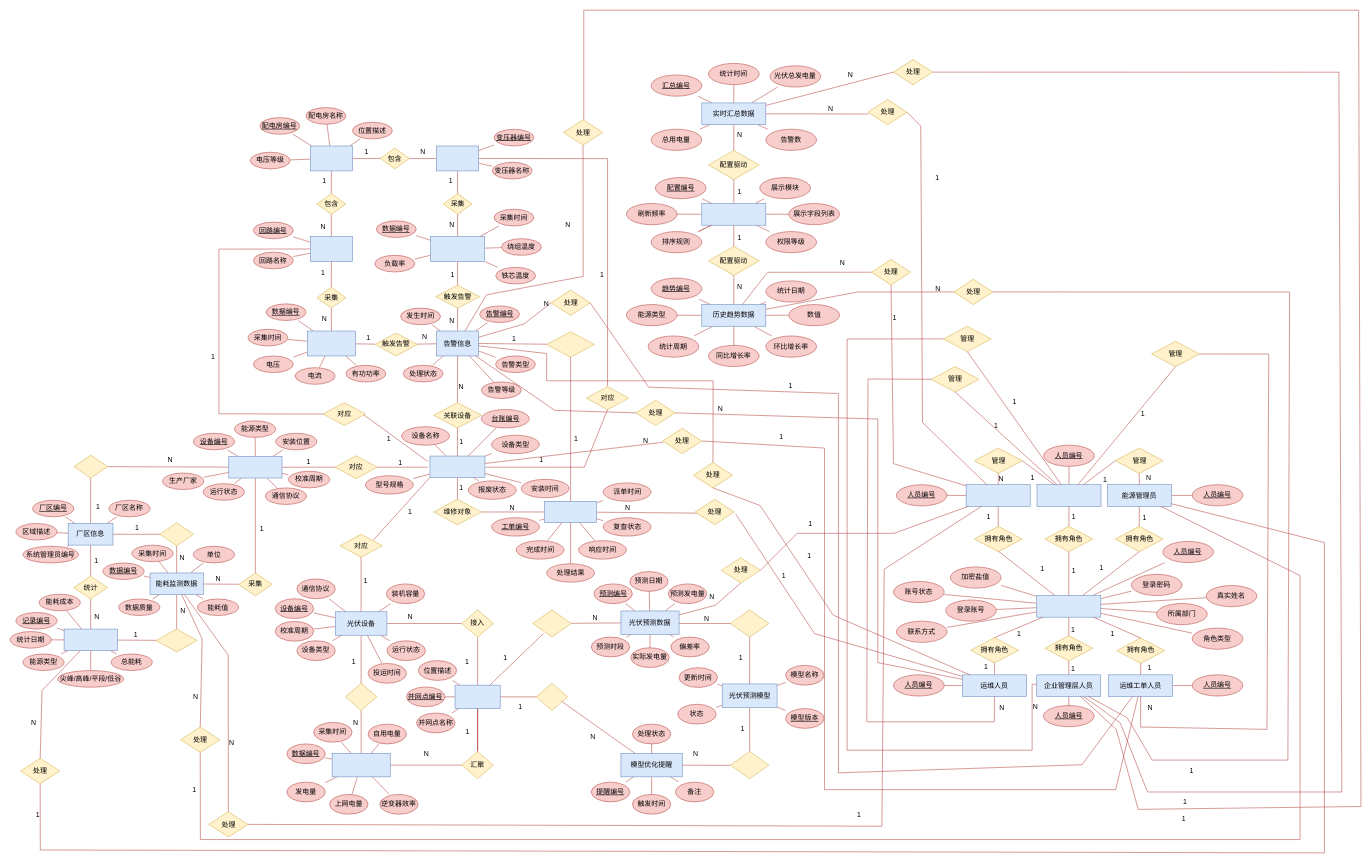
This 1372x864 diagram has some shape labels left out. The centre of each missing label's shape, as x and y in pixels:
"上报" goes at (361,696).
"使用模型" goes at (749,623).
"光伏发电数据" goes at (361,765).
"关联" goes at (552,696).
"变压器" goes at (457,158).
"变压器监测数据" goes at (457,248).
"回路" goes at (331,248).
"回路监测数据" goes at (331,343).
"大屏展示配置" goes at (733,214).
"峰谷能耗数据" goes at (90,639).
"并网点" goes at (477,697).
"归属" goes at (176,534).
"数据分析师" goes at (998,495).
"汇总生成" goes at (176,640).
"生成工单" goes at (570,344).
"生成预测" goes at (551,623).
"系统人员" goes at (1068,606).
"系统管理员" goes at (1068,495).
"能耗计量设备" goes at (255,467).
"触发优化" goes at (749,765).
"设备台账数据" goes at (457,466).
"运维工单数据" goes at (570,512).
"部署" goes at (90,466).
"配电房" goes at (331,158).
